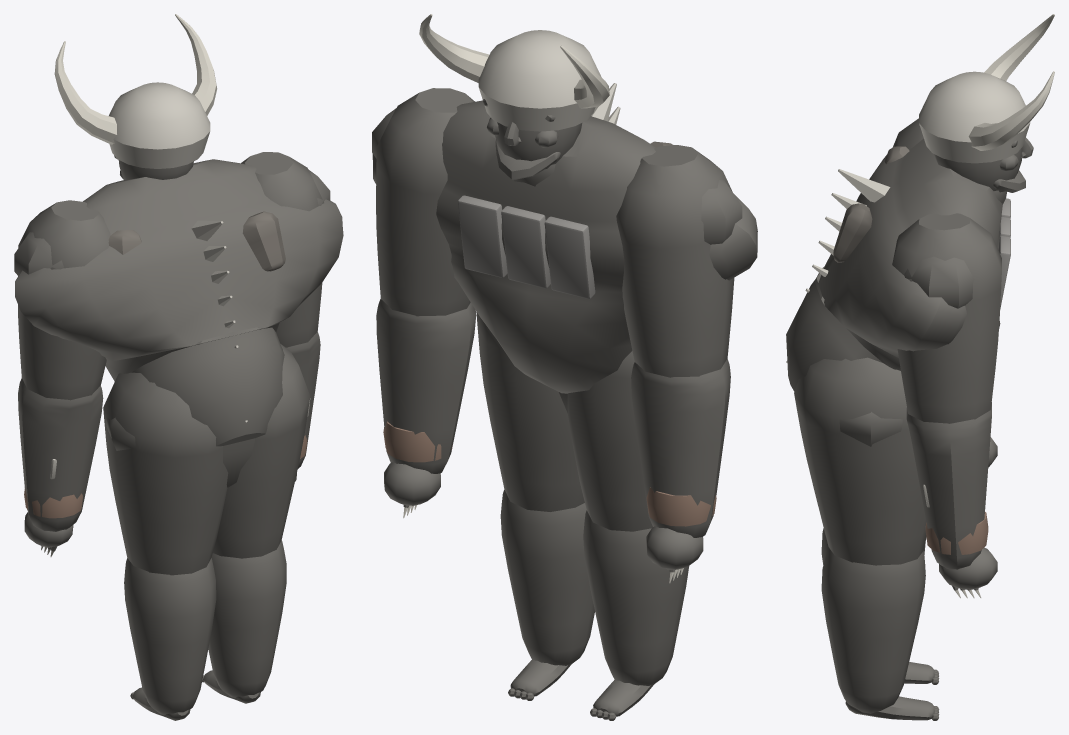
File: en_boss_dome_beast.gltf
3 renders of one model, left to right at view 1: azimuth 30°, elevation 25°; view 2: azimuth 150°, elevation 25°; view 3: azimuth 270°, elevation 25°, orthographic. The views are drawn at different scales.
Parts seen in each view (by area): view 1: Spine, LegL, ShinL, LegR, ShinR, ForeL, ArmL, Head, ArmR, V3_Horns, Hips, ForeR (+1 smaller); view 2: Spine, ArmL, ArmR, ForeL, ForeR, ShinR, ShinL, LegR, Head, LegL, V2_Armour, V3_Horns (+3 smaller); view 3: Spine, LegR, ArmR, ShinR, ForeR, Head, V3_Horns, Hips, V1_CuffR, V2_Armour, ShinL, ArmL.
Part boxes in pixels (x1,y1,x2,y2): Spine: (14, 159, 343, 446); LegL: (103, 372, 228, 575); ShinL: (124, 558, 216, 720); LegR: (213, 344, 310, 558); ShinR: (202, 540, 286, 703); ForeL: (18, 378, 103, 556); ArmL: (18, 200, 110, 400); Head: (109, 82, 210, 179); ArmR: (241, 152, 323, 347); V3_Horns: (54, 14, 217, 144); Hips: (105, 415, 255, 487); ForeR: (286, 331, 320, 481); Spine: (372, 83, 757, 393); ArmL: (616, 145, 734, 377); ArmR: (376, 88, 474, 316); ForeL: (631, 359, 730, 583); ForeR: (376, 299, 476, 518); ShinR: (500, 490, 594, 700); ShinL: (583, 510, 689, 720); LegR: (476, 311, 584, 511); Head: (478, 30, 601, 168); LegL: (567, 351, 652, 531); V2_Armour: (458, 195, 595, 298); V3_Horns: (419, 14, 609, 108); Spine: (786, 139, 1006, 391); LegR: (794, 357, 926, 565); ArmR: (892, 213, 1001, 423); ShinR: (821, 547, 939, 720); ForeR: (906, 402, 997, 598); Head: (919, 71, 1033, 192); V3_Horns: (968, 14, 1054, 150); Hips: (839, 412, 902, 446); V1_CuffR: (925, 512, 988, 554); V2_Armour: (998, 198, 1010, 308); ShinL: (821, 528, 939, 684); ArmL: (893, 118, 923, 148).
Size of the model in its own units: 1.06 by 1.92 by 0.7132.
